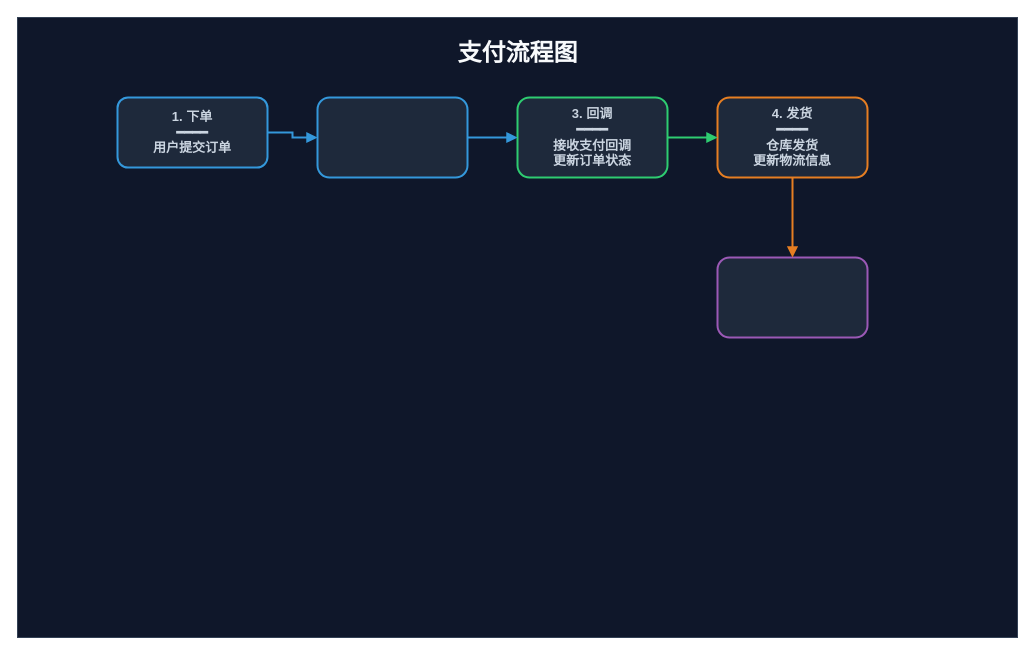
The diagram is 1035 pixels wide and 655 high, and some of its shapes have lost their labels. Each missing label, with the centre of its shape:
2. 支付 ━━━━ 选择支付方式 完成支付: point 392,137
5. 订单完成 ━━━━━━ 用户确认收货 订单完成: point 792,297
